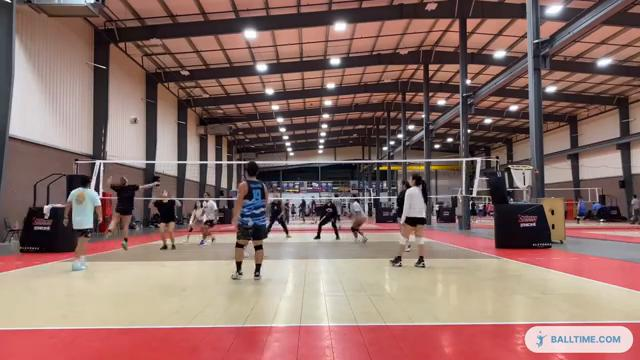attacco: (102, 171, 160, 250)
